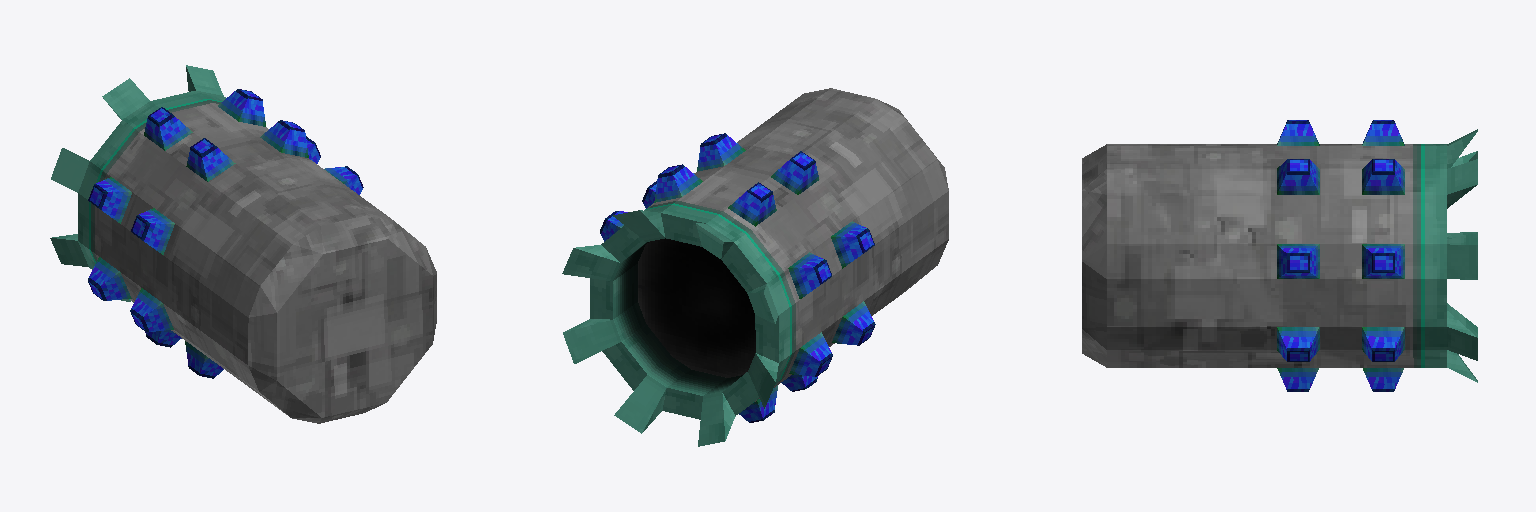
3 renders of one model, left to right at view 1: azimuth 30°, elevation 25°; view 2: azimuth 150°, elevation 25°; view 3: azimuth 270°, elevation 25°, orthographic.
Parts seen in each view (by area): view 1: w_rocket2; view 2: w_rocket2; view 3: w_rocket2.
Part boxes in pixels (x1,y1,x2,y2): w_rocket2: (50, 65, 436, 423); w_rocket2: (562, 88, 948, 446); w_rocket2: (1082, 120, 1477, 391).
Size of the model in its own units: 2 by 2 by 3.08.
1 materials, 1 textured.